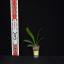leaf: (26, 28, 36, 45), (35, 28, 42, 46), (23, 40, 35, 46), (36, 38, 44, 46), (28, 44, 35, 47)
